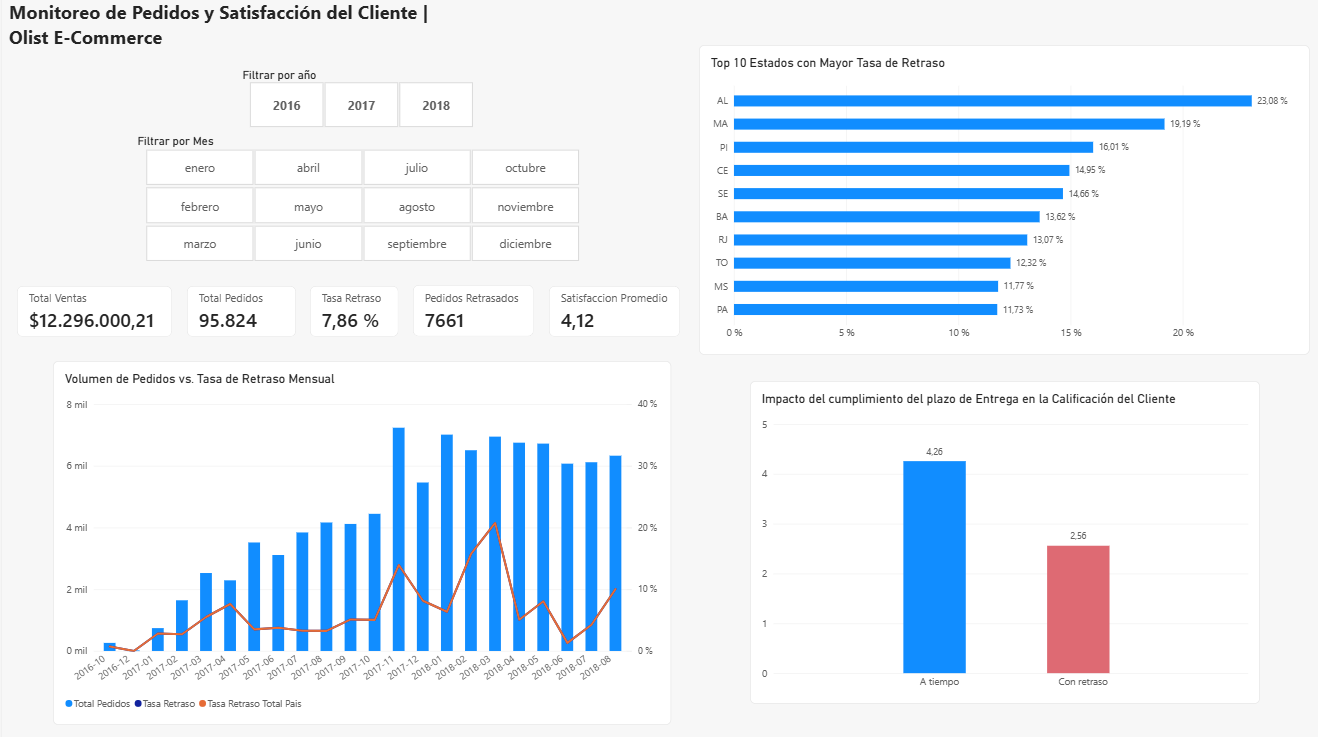

The page's visual inventory and layout, read from the dashboard file:
{"tool":"powerbi","page":{"name":"Página 1","canvas":[1920,1080],"ordinal":0},"visuals":[{"type":"cardVisual","fields":{"Data":["_Medidas.Total Ventas"]},"box":[21.9,418.7,226.1,74.4],"z":0},{"type":"cardVisual","fields":{"Data":["_Medidas.Total Pedidos"]},"box":[269.2,418.7,159,74.4],"z":1000},{"type":"cardVisual","fields":{"Data":["_Medidas.Tasa Retraso"]},"box":[449.4,418.1,129.8,74.4],"z":2000},{"type":"cardVisual","fields":{"Data":["_Medidas.Satisfaccion Promedio"]},"box":[798.1,418.1,191.1,74.4],"z":3000},{"type":"slicer","fields":{"Values":["dim_calendario.Año"]},"box":[342.9,100.7,363.3,96.3],"z":4000},{"type":"slicer","fields":{"Values":["dim_calendario.Mes"]},"box":[189.7,197,671.1,191.1],"z":5000},{"type":"clusteredBarChart","title":"Top 10 Estados con Mayor Tasa de Retraso","fields":{"Category":["dim_customers.customer_state"],"Y":["_Medidas.Tasa Retraso"]},"box":[1016.9,67.1,891.4,452.3],"z":6000},{"type":"clusteredColumnChart","title":"Impacto del cumplimiento del plazo de Entrega en la Calificación del Cliente","fields":{"Category":["fact_pedidos.Estado Entrega"],"Y":["_Medidas.Satisfaccion Promedio"]},"box":[1091.3,557.3,744.1,471.2],"z":7000},{"type":"lineClusteredColumnComboChart","title":"Volumen de Pedidos vs. Tasa de Retraso Mensual","fields":{"Category":["dim_calendario.Año-Mes"],"Y":["_Medidas.Total Pedidos"],"Y2":["_Medidas.Tasa Retraso","_Medidas.Tasa Retraso Total Pais"]},"box":[74.4,528.1,901.6,531.1],"z":8000},{"type":"textbox","box":[10.2,0,617.1,84.6],"z":9000},{"type":"cardVisual","fields":{"Data":["_Medidas.Pedidos Retrasados"]},"box":[600.4,417.4,176.5,75.9],"z":10000}]}

Visuals, with their boxes in screenshot pixels (x1, y1, x2, y2), scaled from the page's 1920x1080 canvas onto the 1318x737 screenshot:
cardVisual - _Medidas.Total Ventas: [left=15, top=286, right=170, bottom=336]
cardVisual - _Medidas.Total Pedidos: [left=185, top=286, right=294, bottom=336]
cardVisual - _Medidas.Tasa Retraso: [left=308, top=285, right=398, bottom=336]
cardVisual - _Medidas.Satisfaccion Promedio: [left=548, top=285, right=679, bottom=336]
slicer - dim_calendario.Año: [left=235, top=69, right=485, bottom=134]
slicer - dim_calendario.Mes: [left=130, top=134, right=591, bottom=265]
"Top 10 Estados con Mayor Tasa de Retraso" clusteredBarChart: [left=698, top=46, right=1310, bottom=354]
"Impacto del cumplimiento del plazo de Entrega en la Calificación del Cliente" clusteredColumnChart: [left=749, top=380, right=1260, bottom=702]
"Volumen de Pedidos vs. Tasa de Retraso Mensual" lineClusteredColumnComboChart: [left=51, top=360, right=670, bottom=723]
textbox: [left=7, top=0, right=431, bottom=58]
cardVisual - _Medidas.Pedidos Retrasados: [left=412, top=285, right=533, bottom=337]
